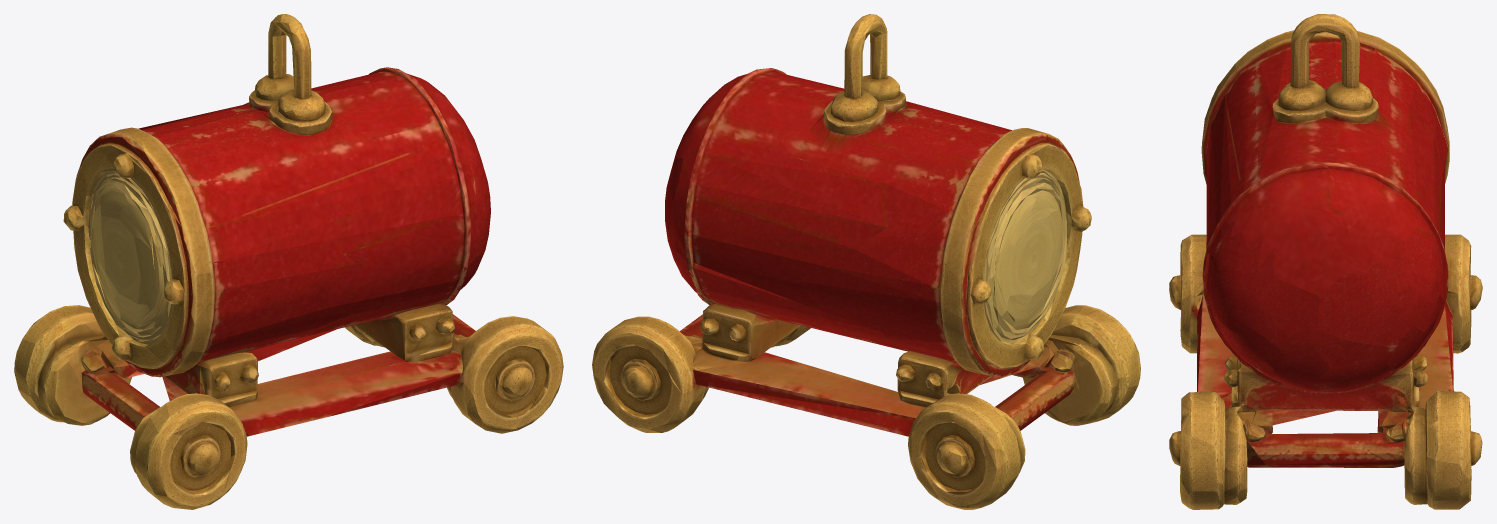
The model's file is lamp.glb.
The picture shows the model from 3 angles, left to right: view 1: azimuth 30°, elevation 25°; view 2: azimuth 150°, elevation 25°; view 3: azimuth 270°, elevation 25°; orthographic projection.
Visible parts, largest first — view 1: Mesh_0; view 2: Mesh_0; view 3: Mesh_0.
Part boxes in pixels (left/top/right/bottom): Mesh_0: left=14, top=14, right=563, bottom=509; Mesh_0: left=592, top=14, right=1140, bottom=509; Mesh_0: left=1169, top=14, right=1482, bottom=509.
Size of the model in its own units: 1.9 by 1.77 by 1.22.
1 material, 1 textured.
